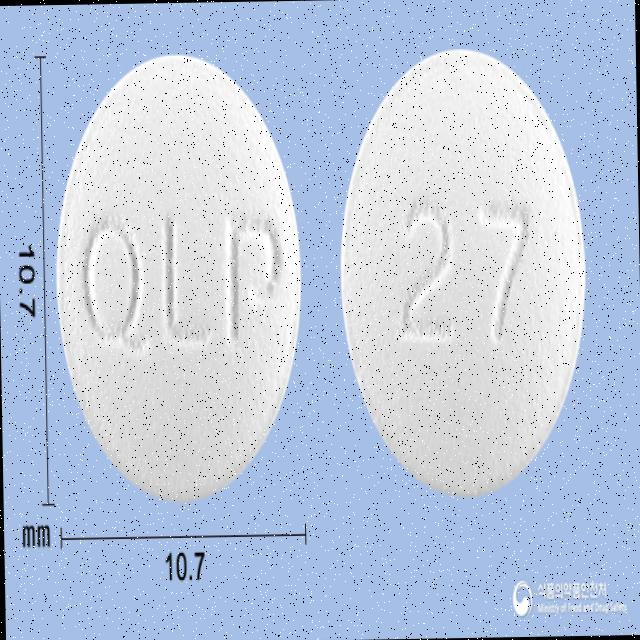Cyrus: (335, 41, 591, 498), (51, 46, 306, 504)
